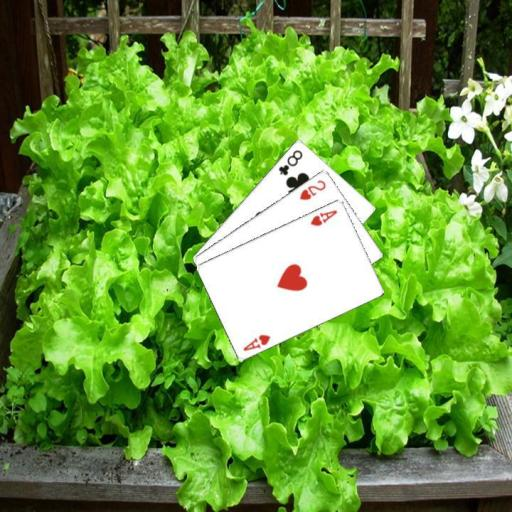2H: (297, 177, 327, 202)
8C: (276, 147, 305, 177)
AH: (307, 206, 339, 227), (240, 331, 272, 352)
